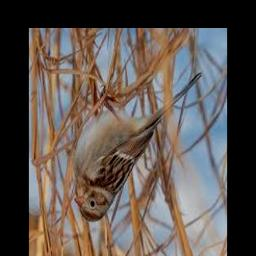Sparrow: (74, 71, 202, 222)
